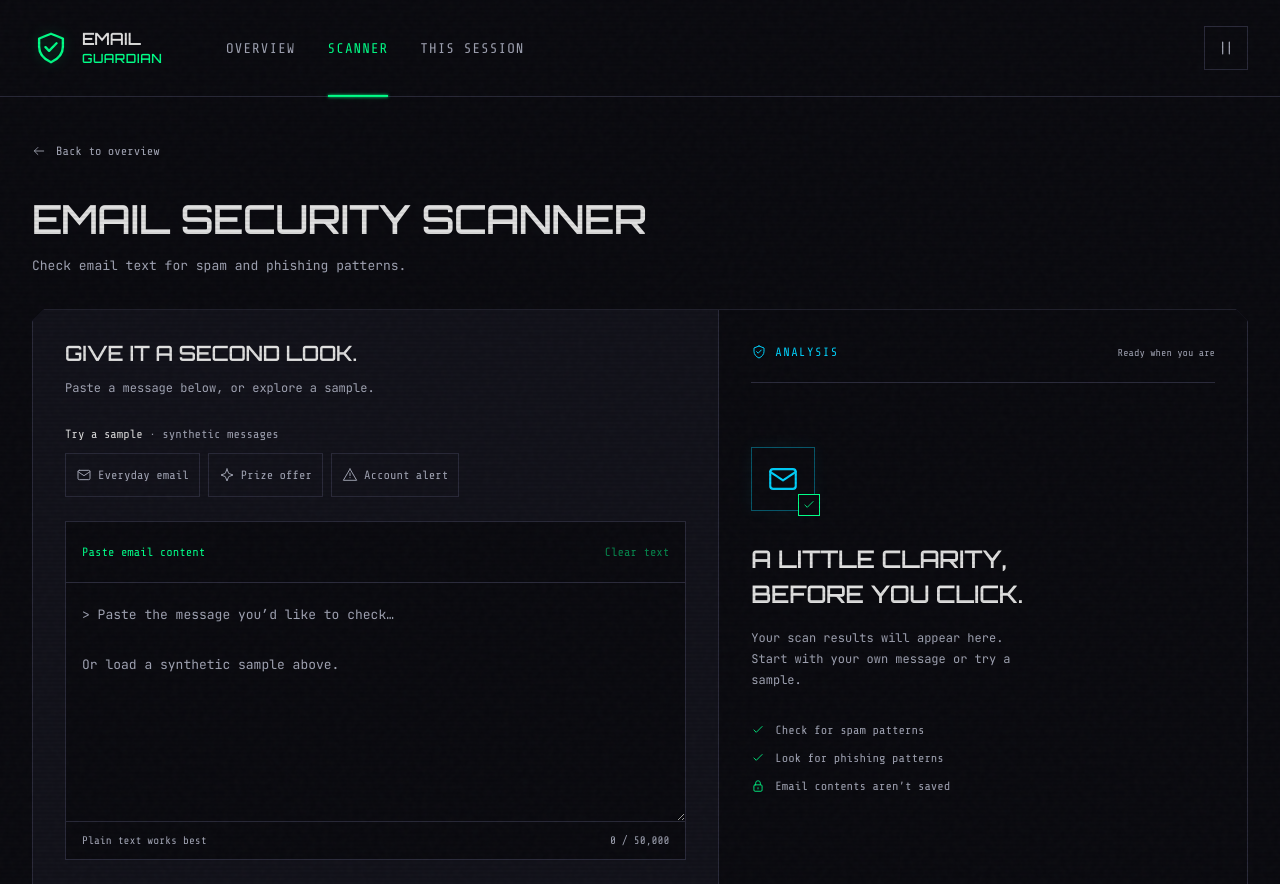
Scenario: unknown labels cannot show a safe result
This screenshot has width=1280, height=884.
Replace the text in the text box labelled "Paste email content" with "PRIVATE_INPUT_MARKER". click: (376, 702)
box: [66,583,685,821]
(page scrolled)
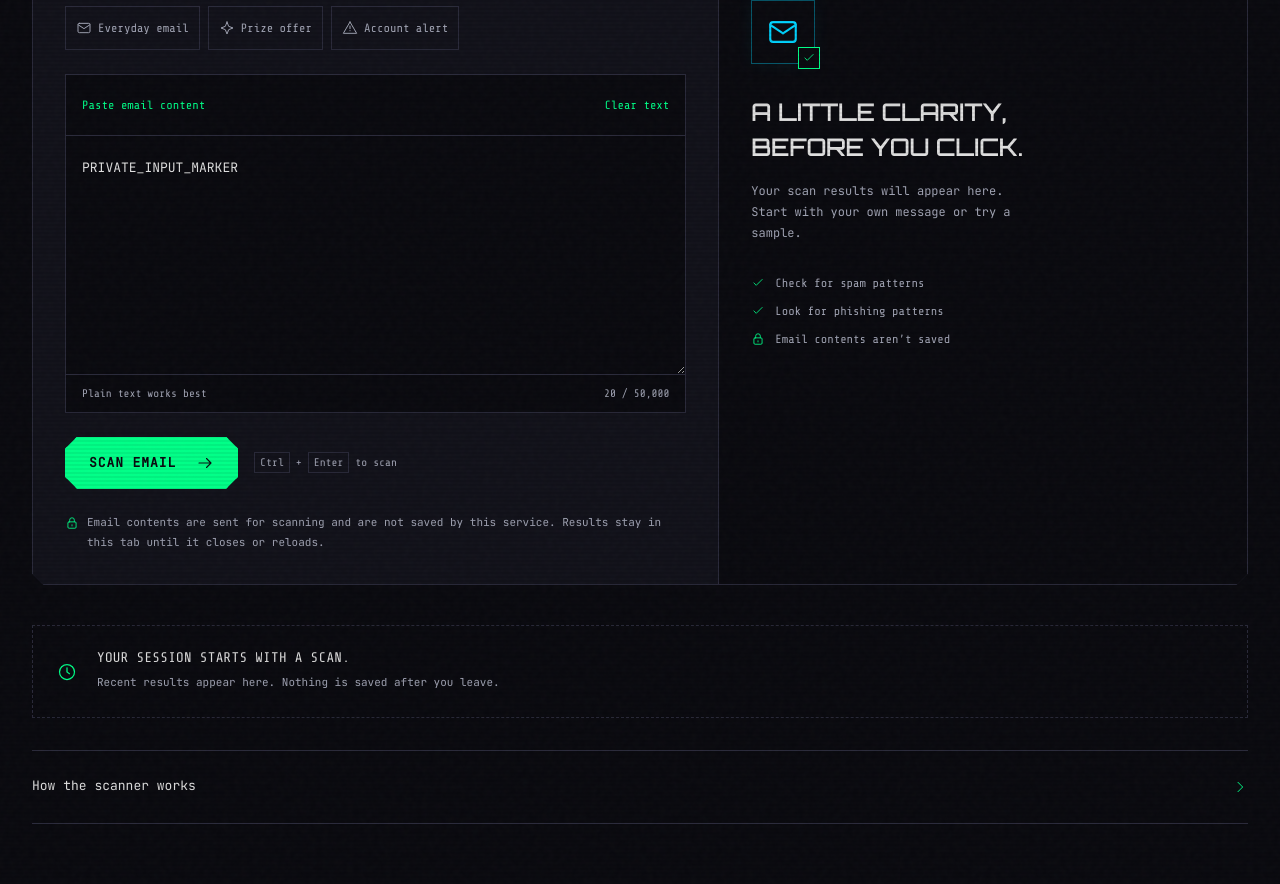
Click the button "Scan Email". click: (152, 463)
box: [65,437,238,489]
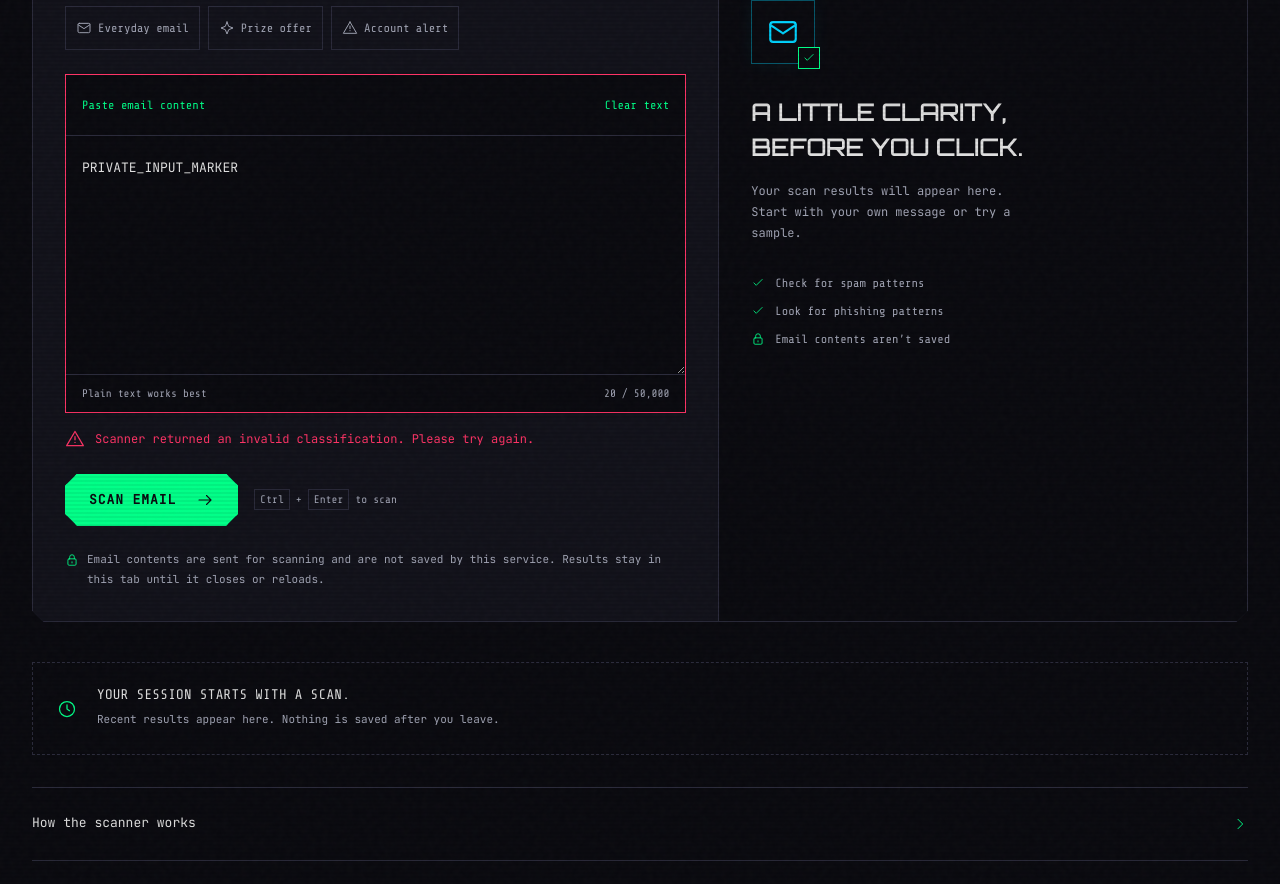
Now the message shows "invalid classification", box [95,431,534,447]
